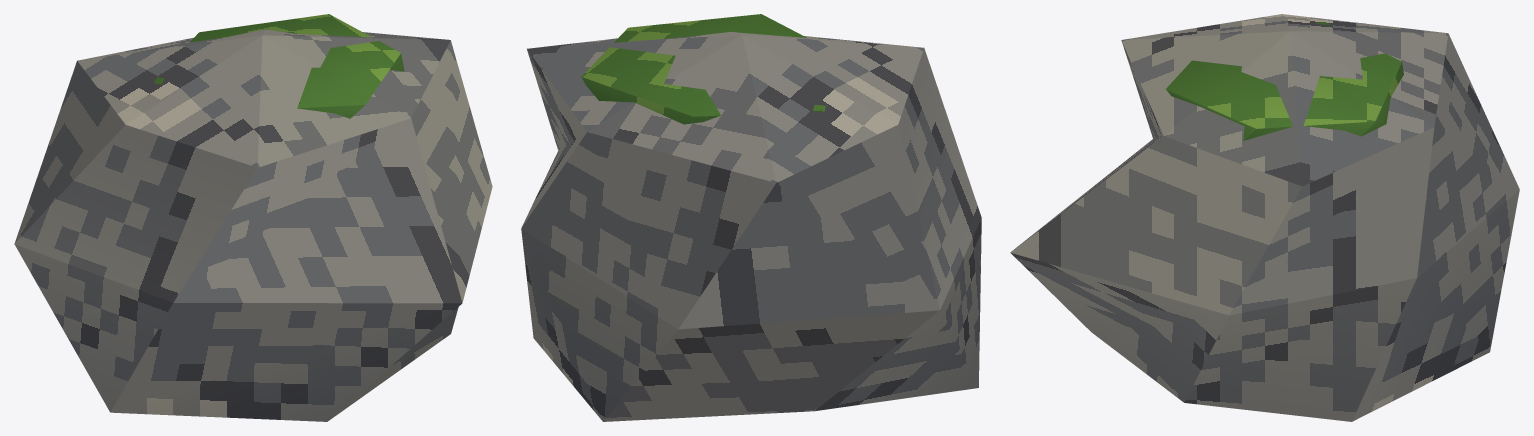
File: mnat.rock.glb
3 views of the same model, side by side, from view 1: azimuth 30°, elevation 25°; view 2: azimuth 150°, elevation 25°; view 3: azimuth 270°, elevation 25° (orthographic). The views are drawn at different scales.
Visible parts, largest first — view 1: kit_rock, kit_moss; view 2: kit_rock, kit_moss; view 3: kit_rock, kit_moss.
Part boxes in pixels (box(x1,y1,x2,y2)): kit_rock: box(14, 29, 492, 421); kit_moss: box(154, 14, 404, 118); kit_rock: box(521, 31, 981, 421); kit_moss: box(581, 14, 825, 124); kit_rock: box(1010, 14, 1519, 421); kit_moss: box(1166, 22, 1403, 140).
Bounding box in the file's own units: 1.37 × 1.1 × 1.41.
2 materials, 2 textured.
